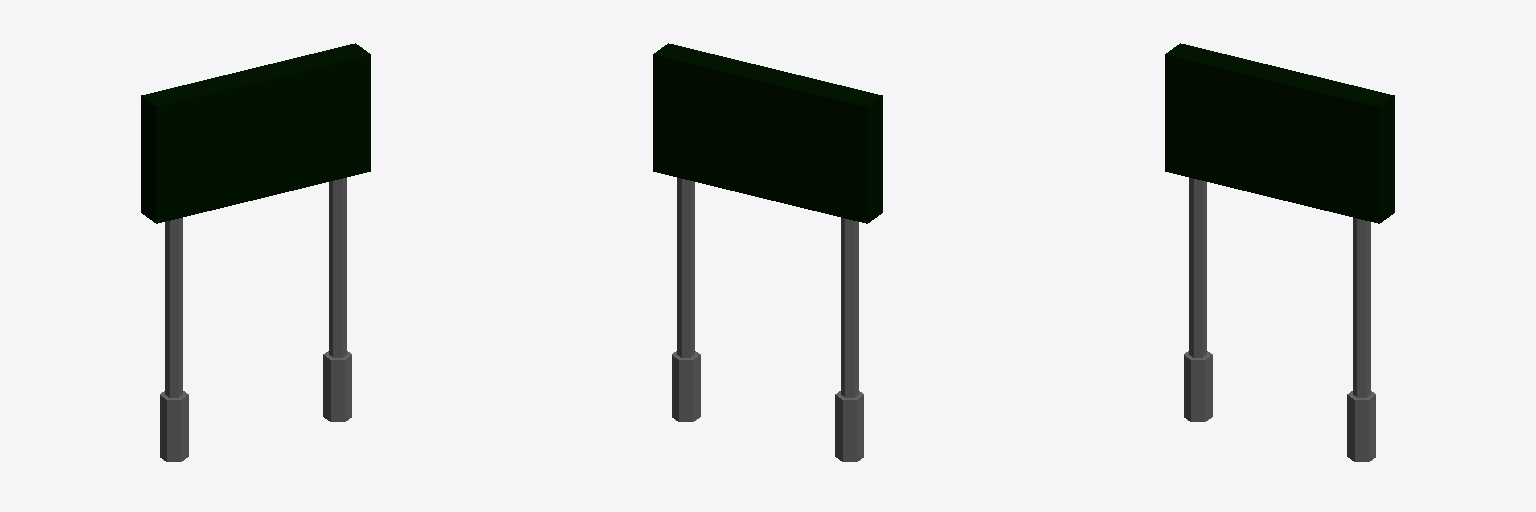
The model's file is SignBoard_08.obj.
3 renders of one model, left to right at view 1: azimuth 30°, elevation 25°; view 2: azimuth 150°, elevation 25°; view 3: azimuth 330°, elevation 25°, orthographic.
Parts seen in each view (by area): view 1: SignBoard_08_Cylinder.032; view 2: SignBoard_08_Cylinder.032; view 3: SignBoard_08_Cylinder.032.
Part boxes in pixels (x1,y1,x2,y2): SignBoard_08_Cylinder.032: (141,43,370,461); SignBoard_08_Cylinder.032: (653,43,882,461); SignBoard_08_Cylinder.032: (1165,43,1394,461).
Size of the model in its own units: 9.38 by 15.09 by 1.17.